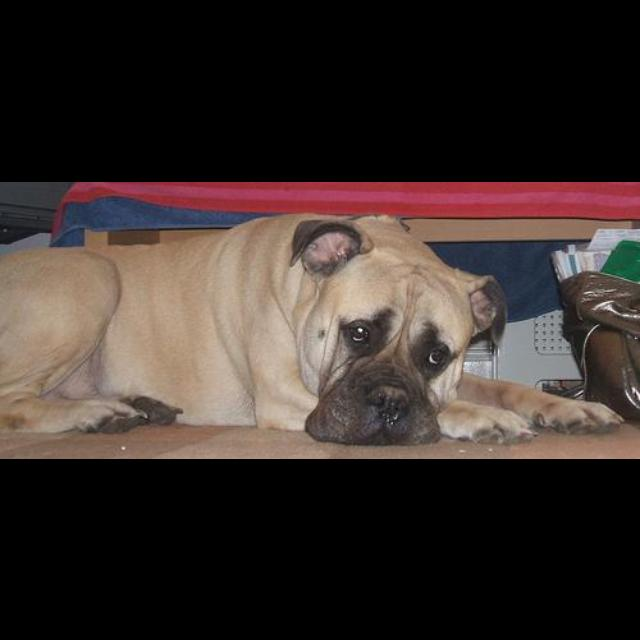bullmastiff: (1, 212, 625, 447)
